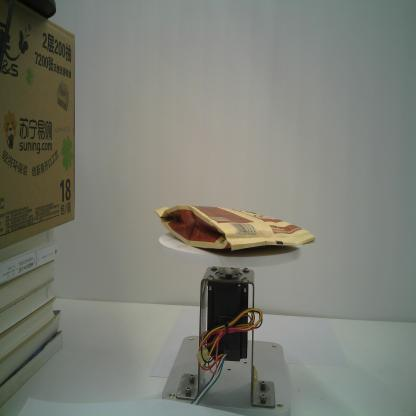Dried Food: (152, 201, 316, 256)
